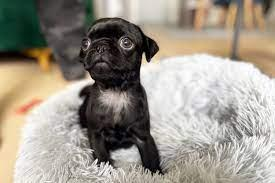Dog: (74, 15, 161, 83)
